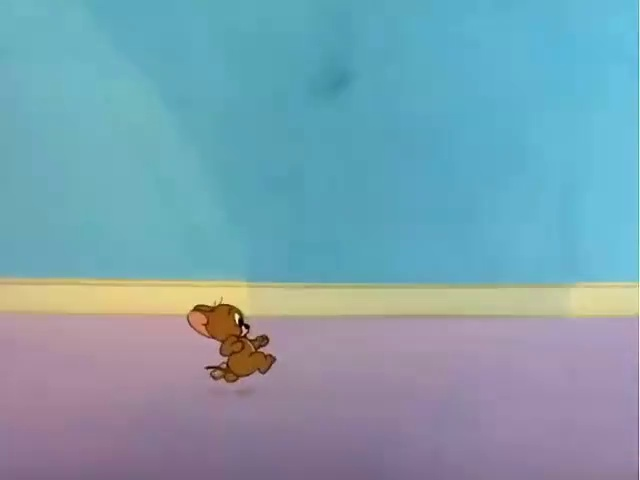jerry: (178, 280, 306, 416)
